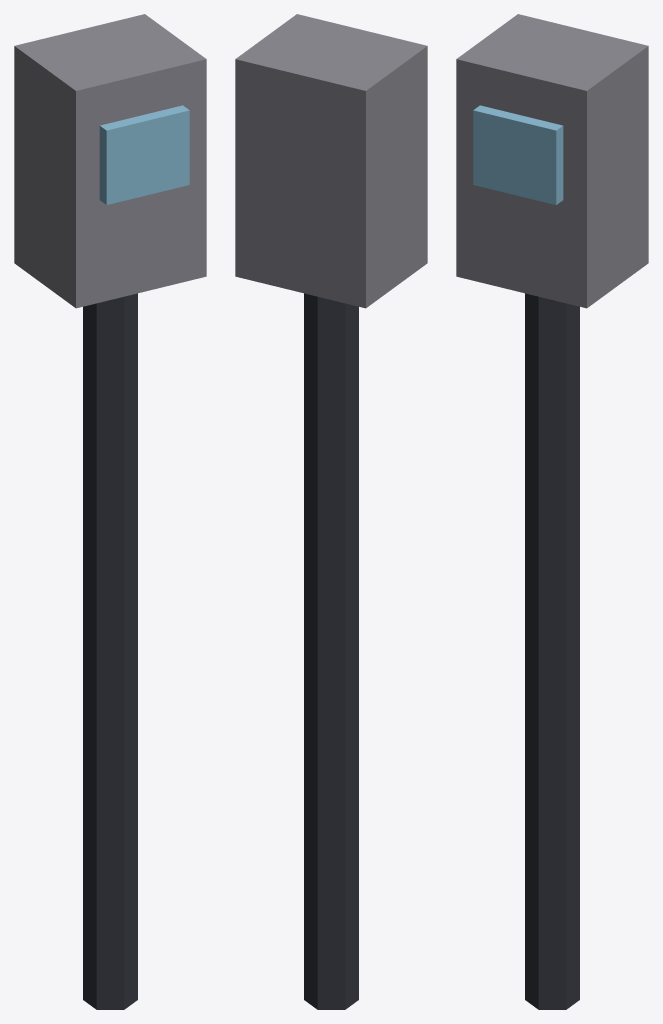
Rendered from parking_meter.glb.
The picture shows the model from 3 angles, left to right: view 1: azimuth 30°, elevation 25°; view 2: azimuth 150°, elevation 25°; view 3: azimuth 330°, elevation 25°; orthographic projection.
Visible parts, largest first — view 1: parking_meter; view 2: parking_meter; view 3: parking_meter.
Boxes of the visible parts, x1,y1,x2,y2 form: parking_meter: (14,14,206,1009); parking_meter: (235,14,427,1009); parking_meter: (456,14,648,1009).
Bounding box in the file's own units: 0.22 × 1.52 × 0.2.
